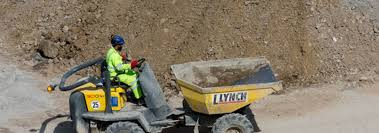hard hat: (110, 34, 124, 44)
high-vis: (106, 47, 125, 75)
